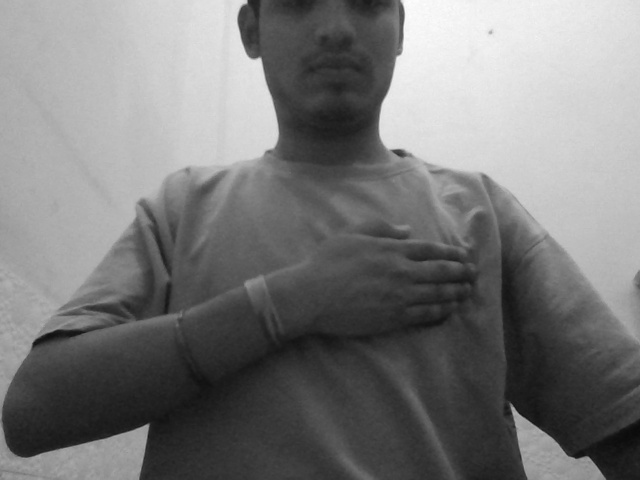Sorry: (288, 200, 491, 385)
